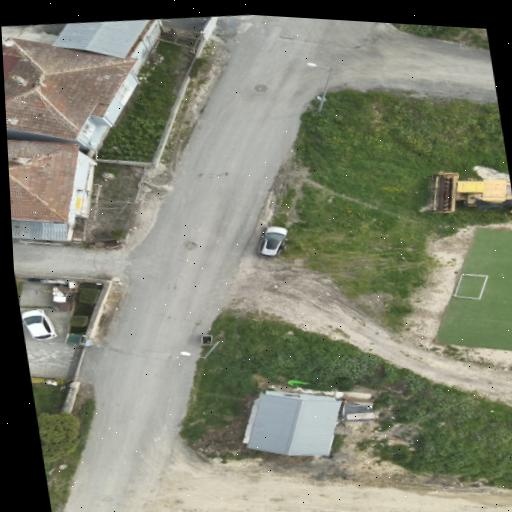car: (22, 309, 57, 341), (258, 226, 287, 258)
harvester: (430, 173, 511, 213)
